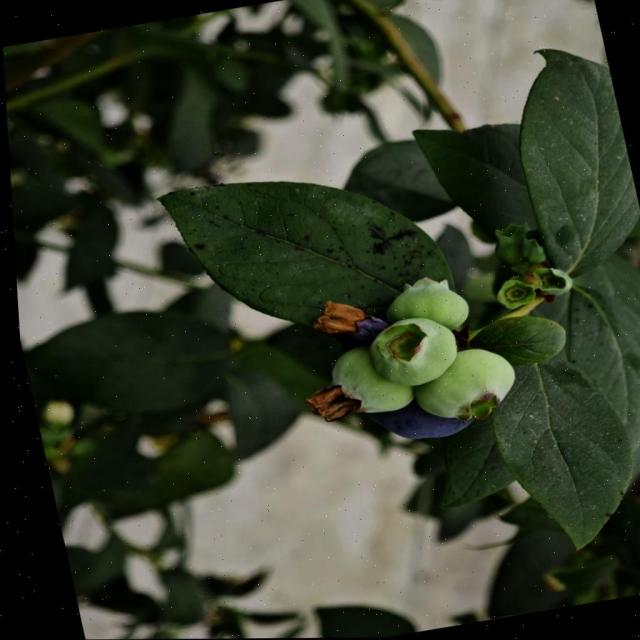UnripeBlueBerry: (397, 343, 520, 433), (356, 310, 462, 394)
